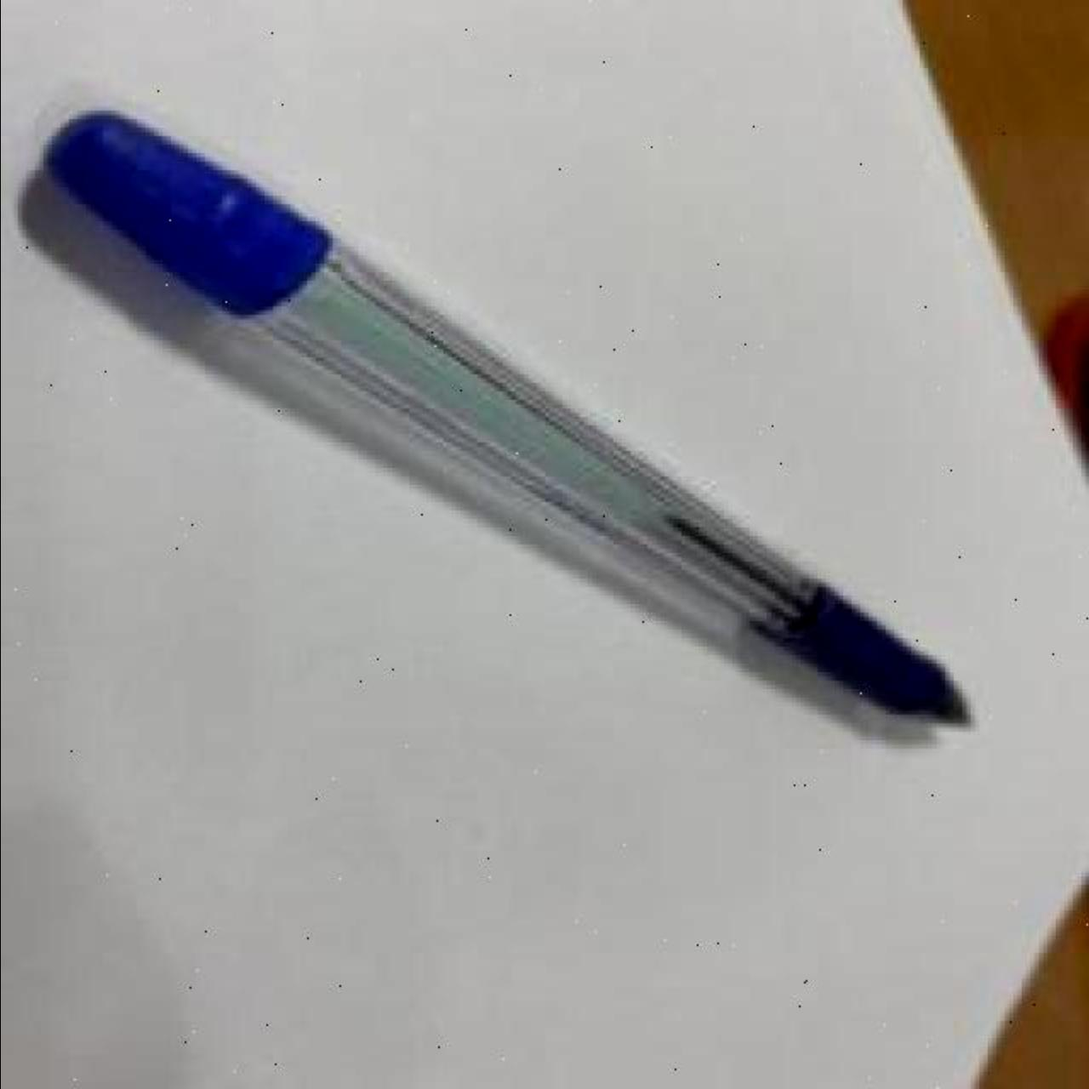pen: (29, 111, 978, 737)
